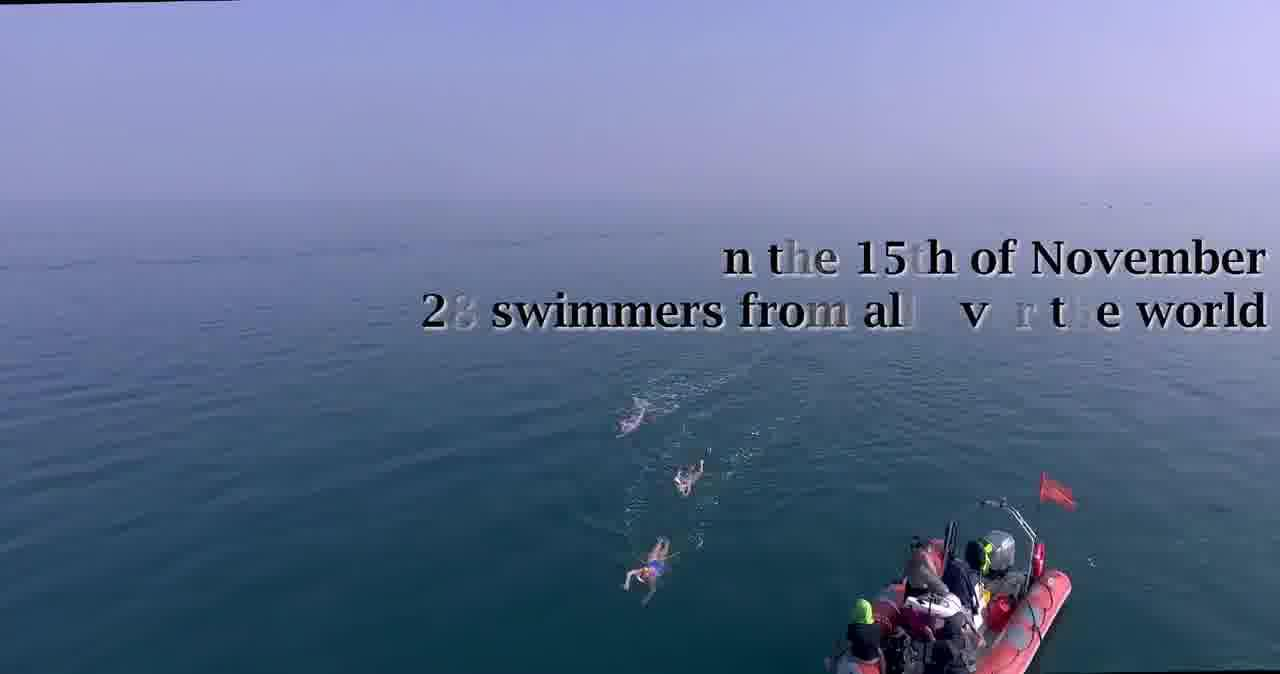swimmer: (616, 532, 672, 608), (672, 458, 705, 501)
